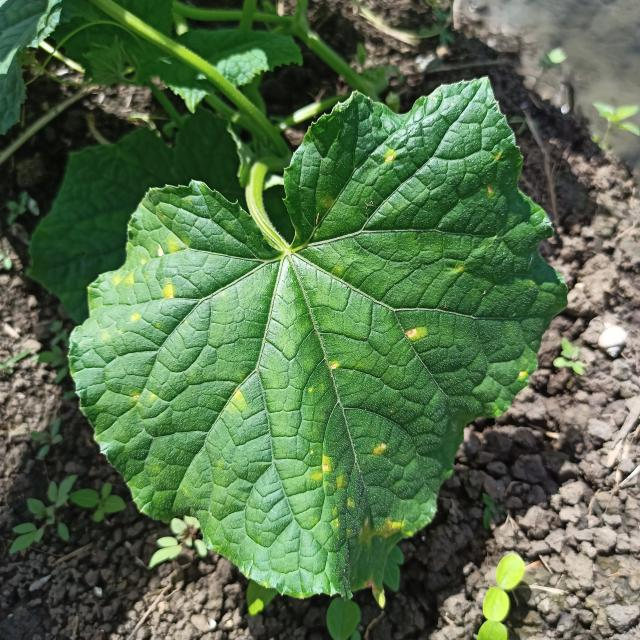disease_cucumber: (302, 439, 406, 545), (111, 238, 190, 326), (401, 326, 428, 342), (230, 389, 246, 411), (385, 153, 397, 165), (329, 363, 339, 374)
